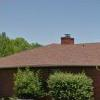Chimney: (56, 29, 76, 48)
